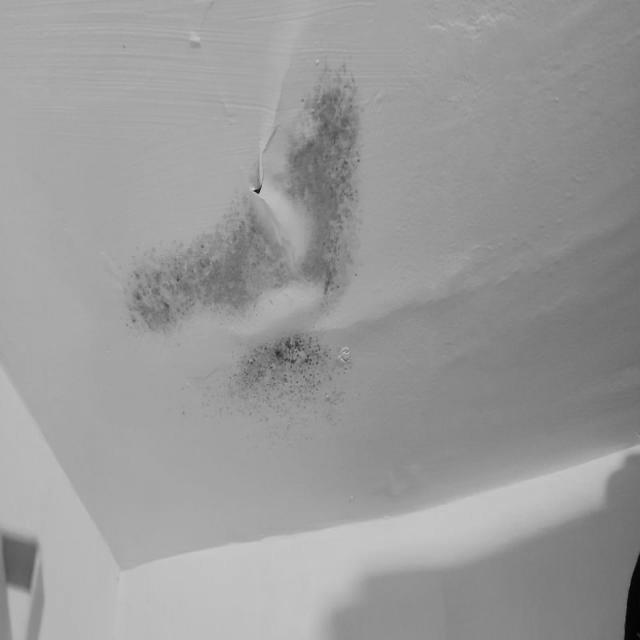stain marks: (127, 205, 297, 336), (296, 58, 366, 318), (224, 315, 354, 445), (266, 121, 298, 202)
